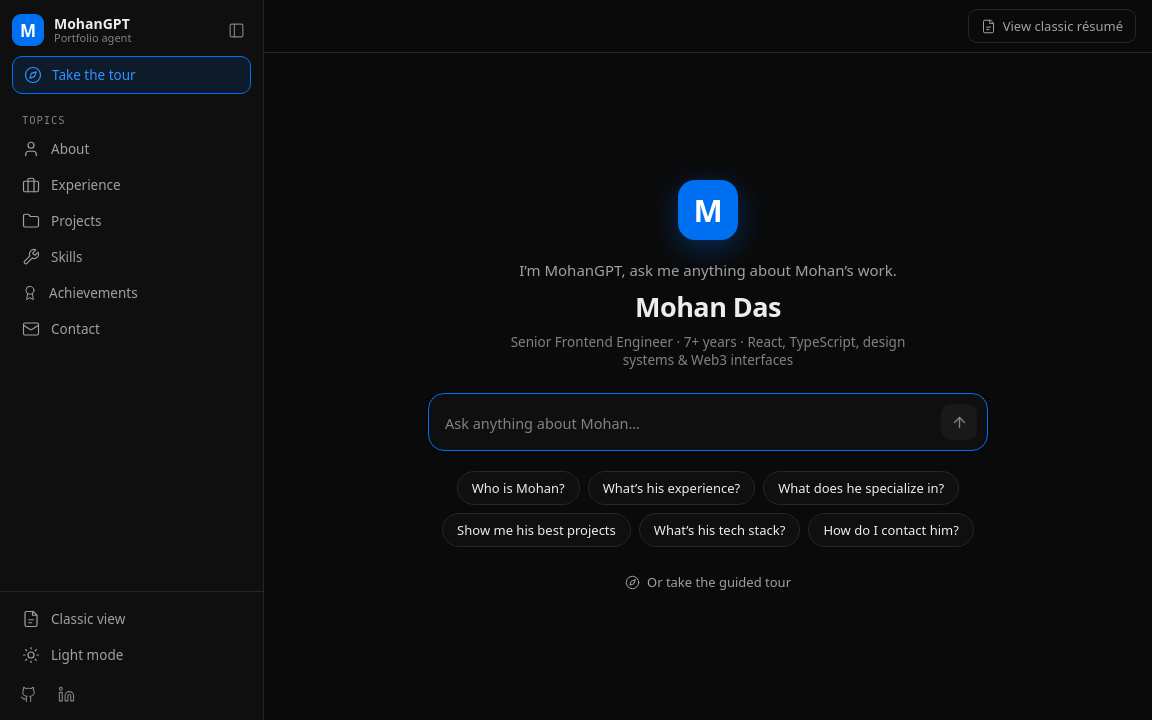
Test case: <MohanGPT /> › falls back honestly on a question it cannot answer
Type "qwertyuiop asdfgh" into the text box with test id "composer-input".
click(689, 424); type("qwertyuiop asdfgh")  # box [445, 408, 933, 440]
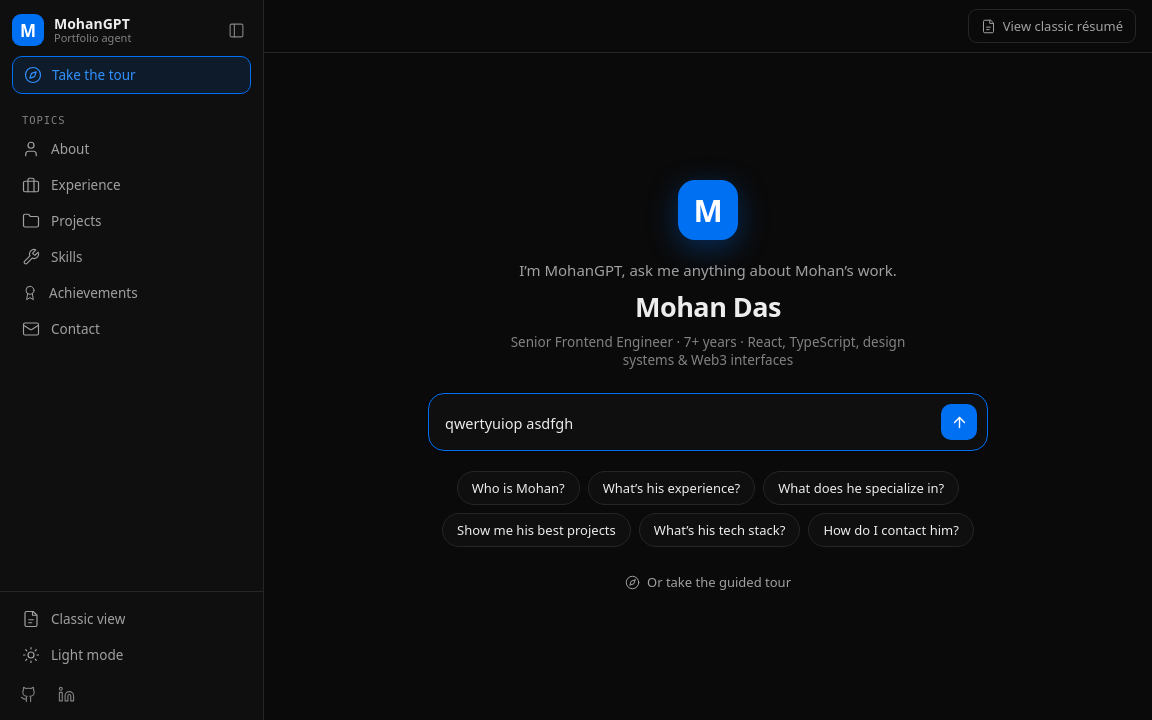
Click the button with test id "composer-send".
click(959, 422)  # box [941, 404, 977, 440]
Wait 1924 ms
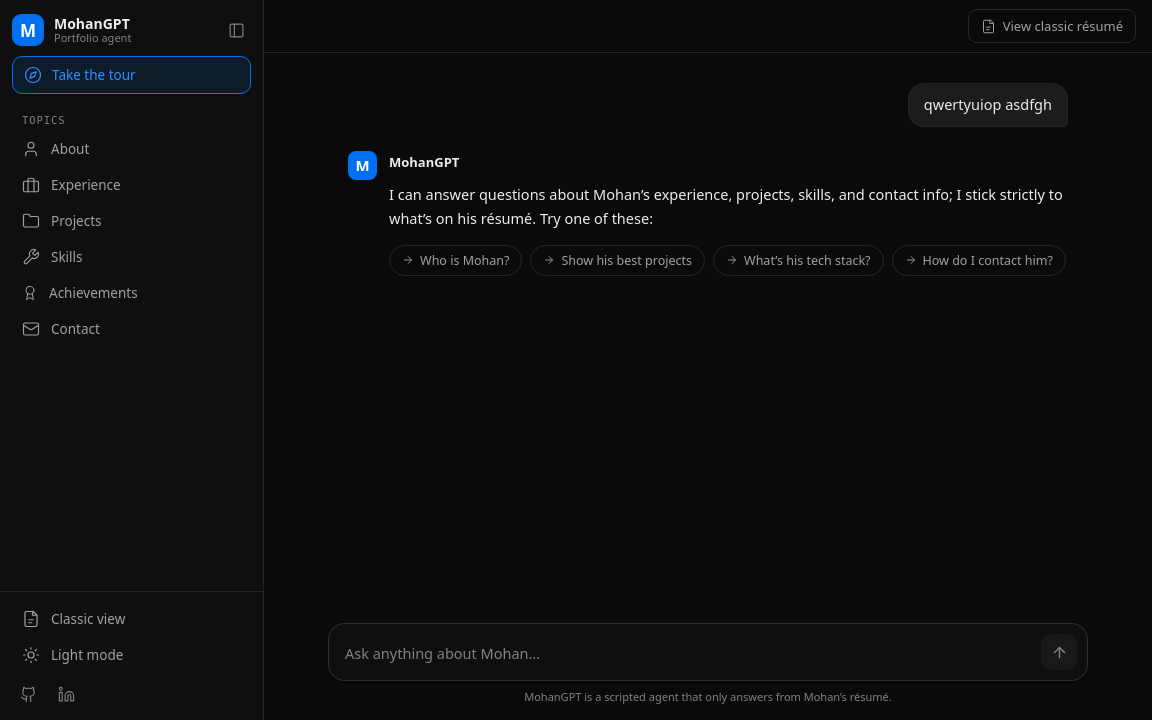
Expected: the element with test id "thread" shows "I stick strictly to what’s on his résumé", [389, 184, 1066, 228]
